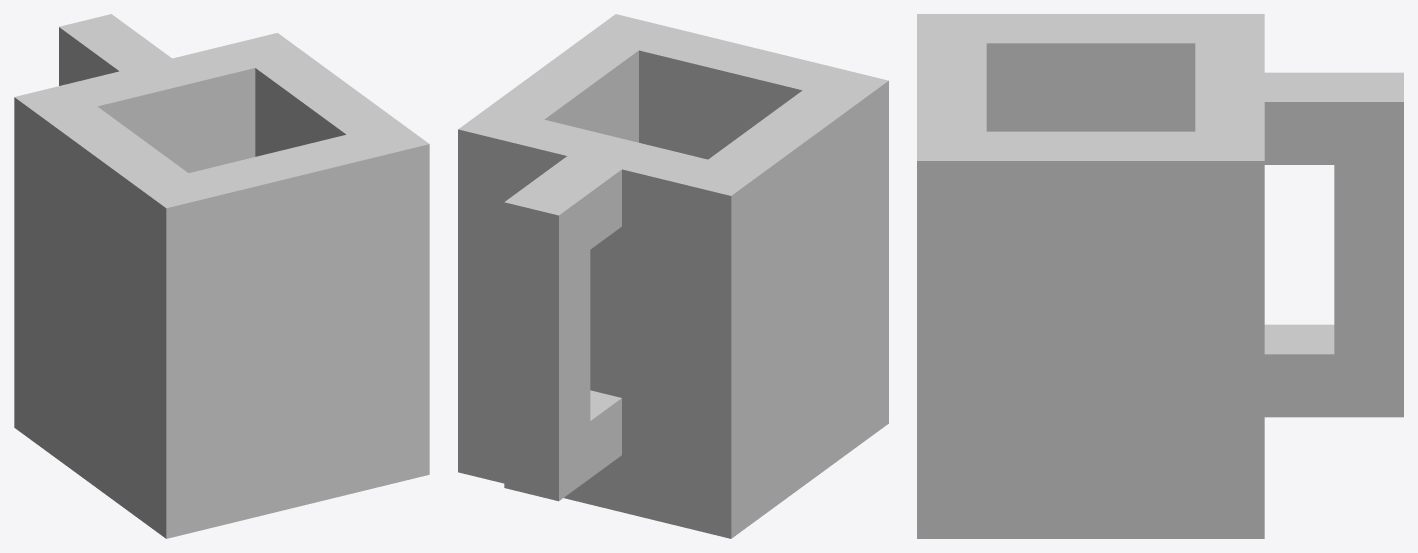
The model's file is mug_01.glb.
3 views of the same model, side by side, from view 1: azimuth 30°, elevation 25°; view 2: azimuth 150°, elevation 25°; view 3: azimuth 270°, elevation 25° (orthographic). The views are drawn at different scales.
Parts seen in each view (by area): view 1: Untitled; view 2: Untitled; view 3: Untitled.
Boxes of the visible parts, x1,y1,x2,y2 form: Untitled: [14, 14, 429, 538]; Untitled: [458, 14, 888, 538]; Untitled: [917, 14, 1403, 538].
Size of the model in its own units: 0.15 by 0.18 by 0.21.
1 material, 1 textured.
